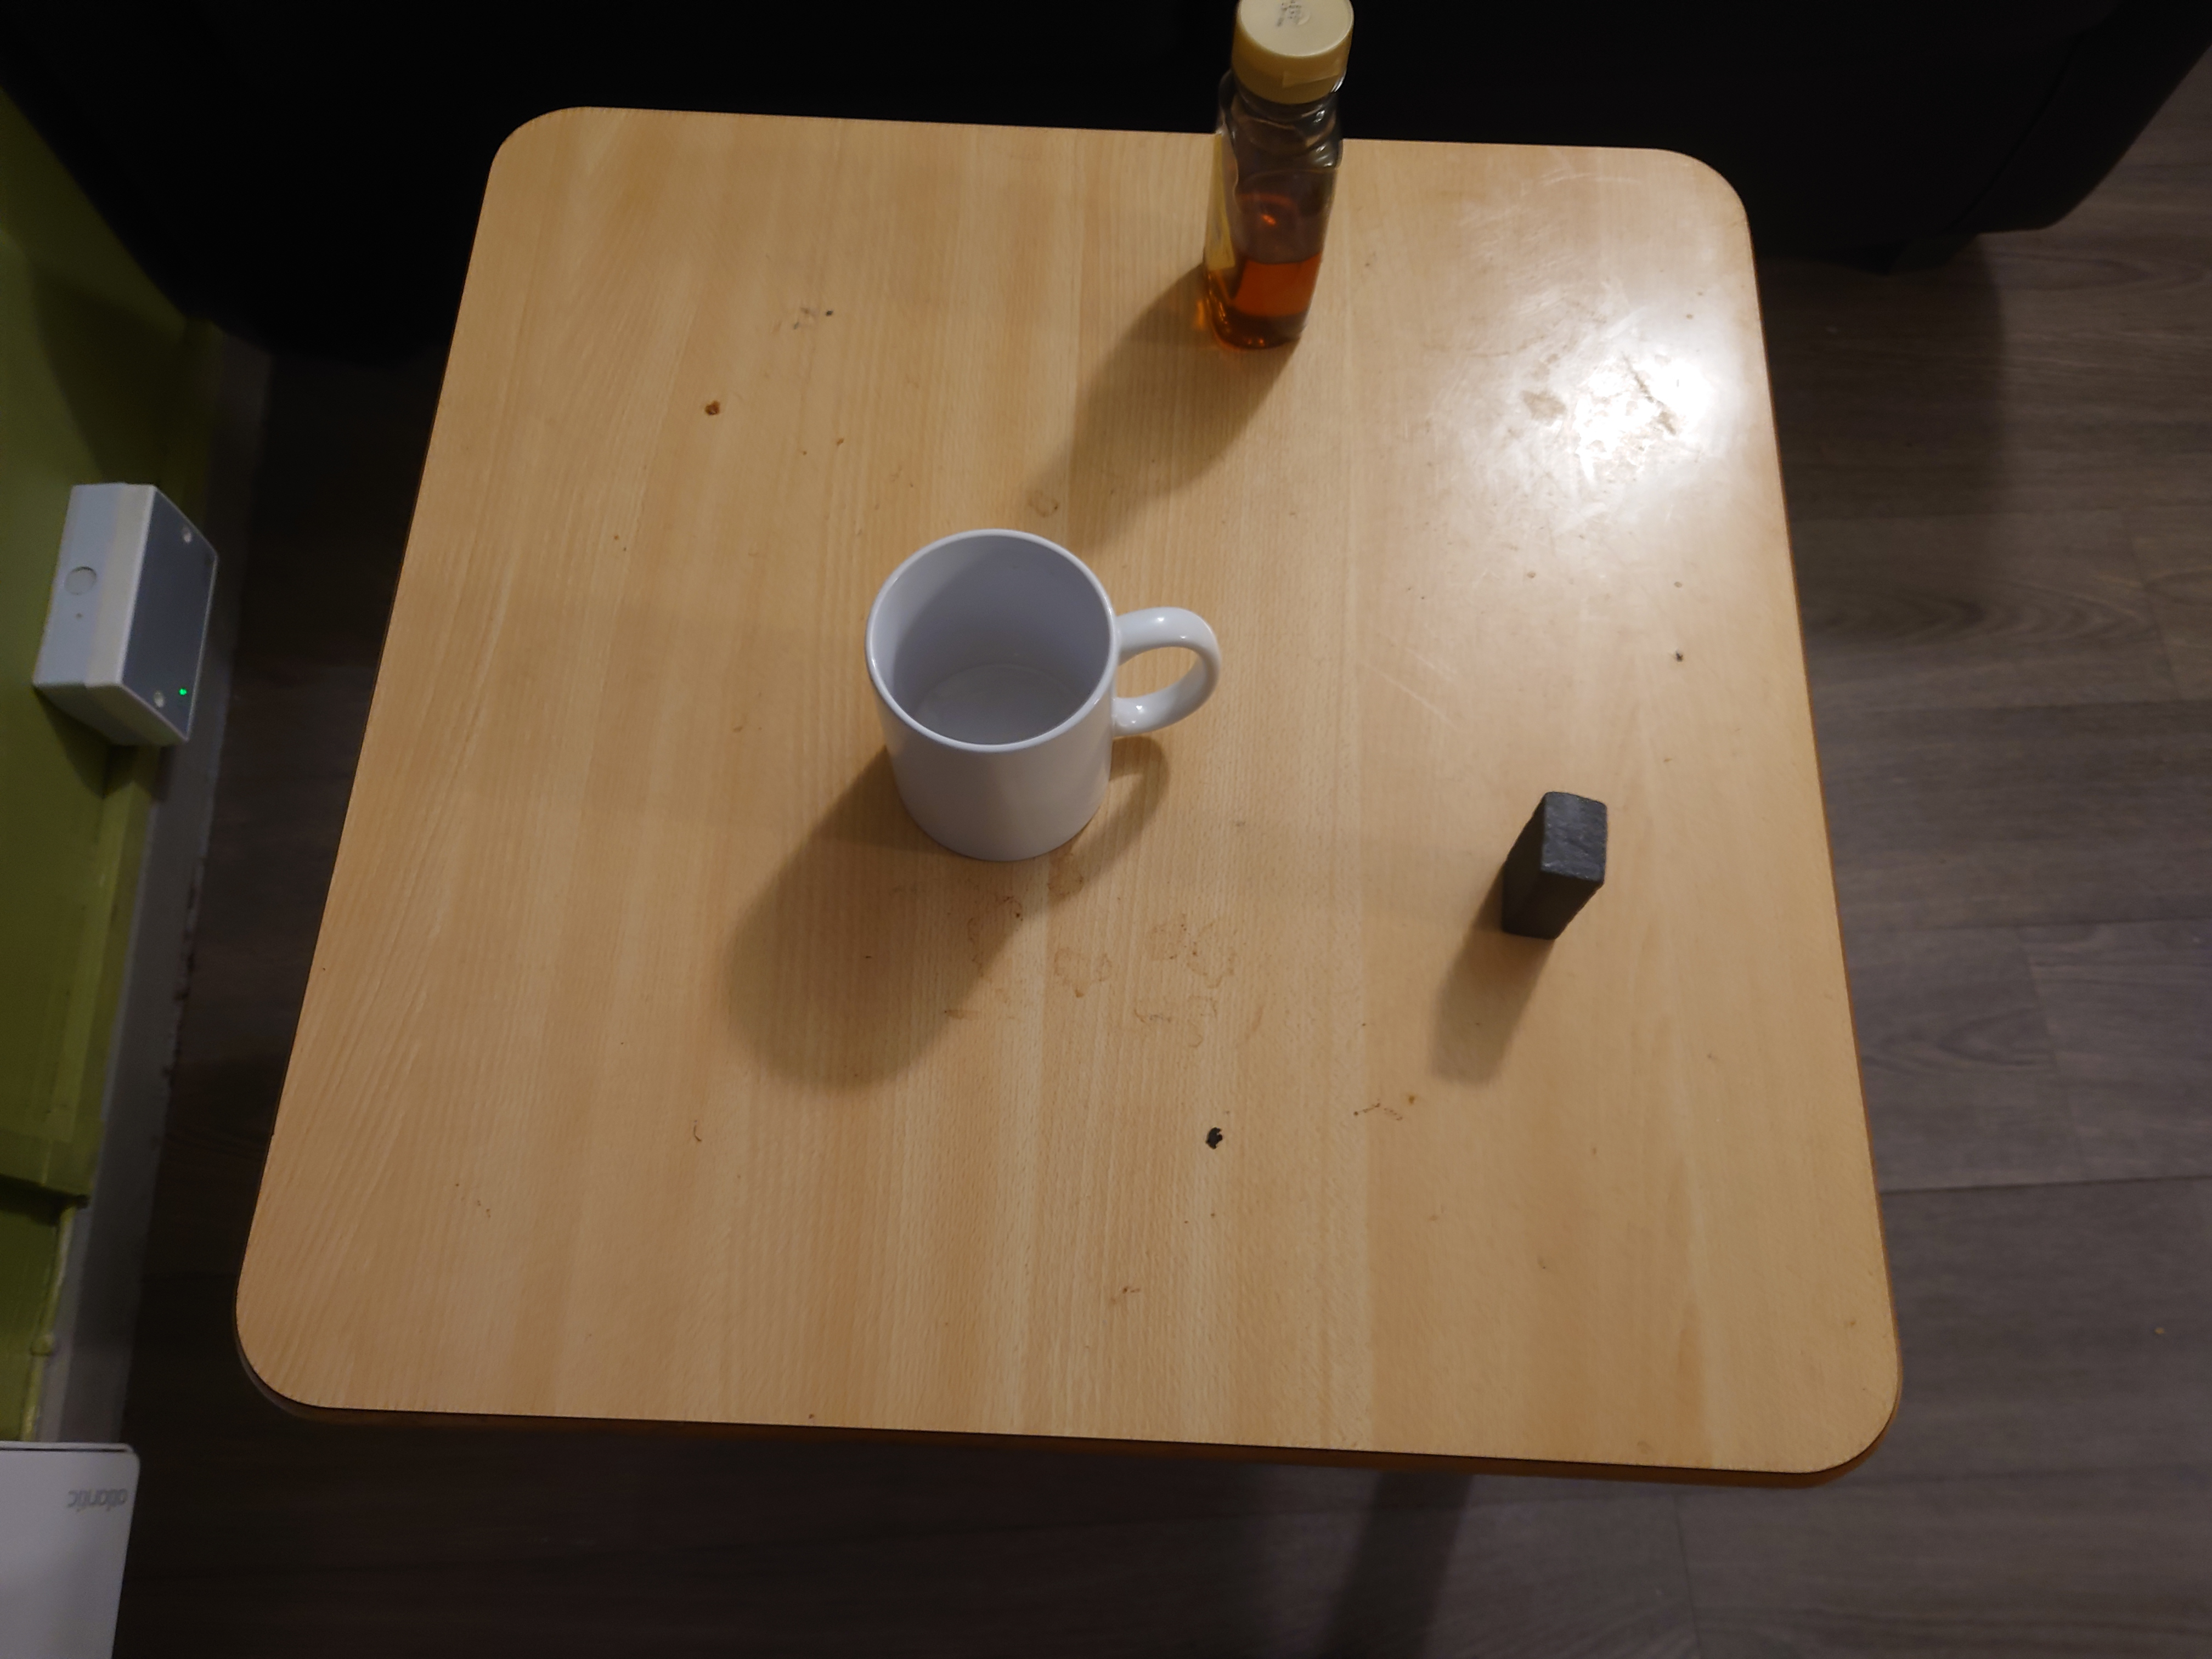cup: (866, 523, 1214, 864)
target: (1486, 784, 1606, 950)
